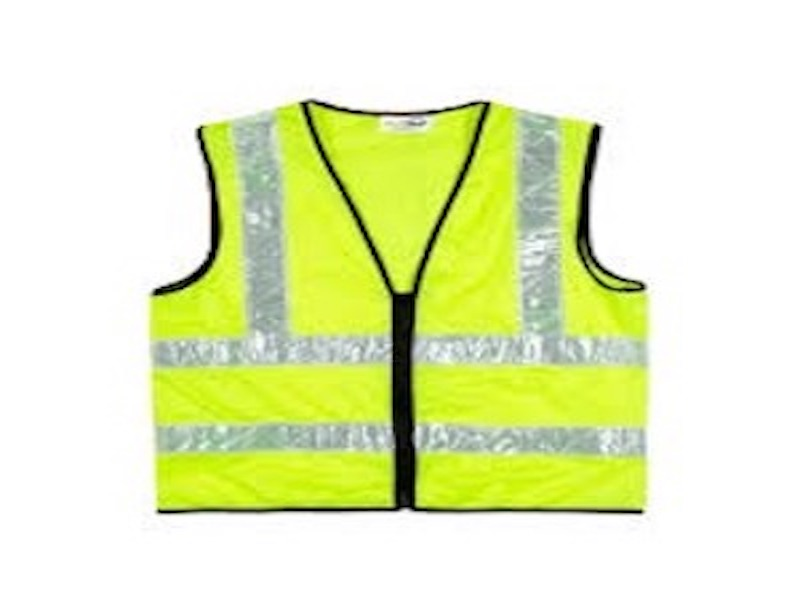vest: (154, 105, 653, 516)
